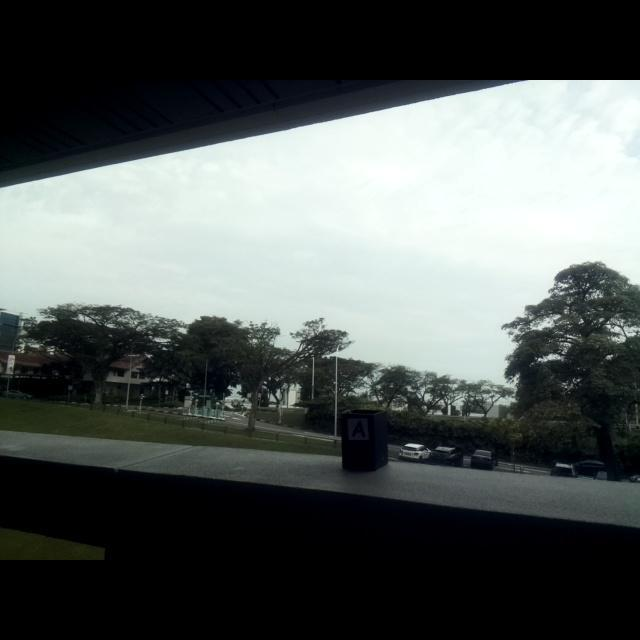A: (351, 419, 367, 438)
